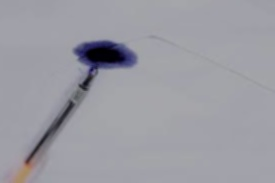ink: (75, 45, 134, 66)
